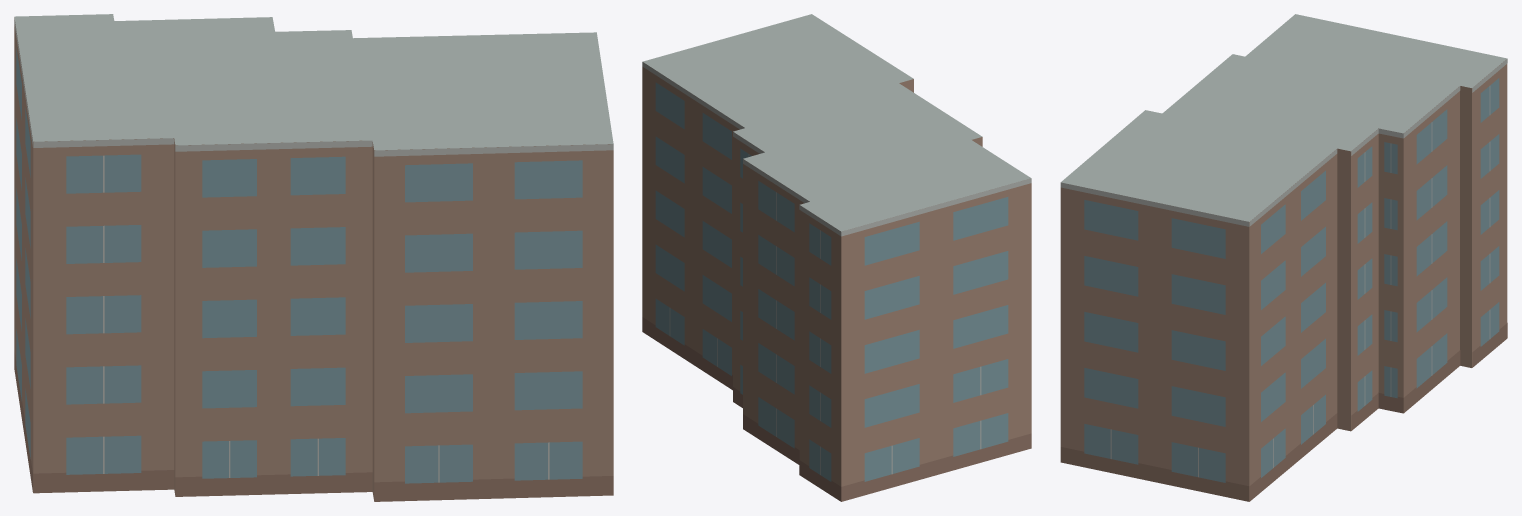
Rendered from survey-upis-32585065.glb.
3 renders of one model, left to right at view 1: azimuth 30°, elevation 25°; view 2: azimuth 150°, elevation 25°; view 3: azimuth 270°, elevation 25°, orthographic. The views are drawn at different scales.
Parts seen in each view (by area): view 1: survey-upis-32585065.tmp; view 2: survey-upis-32585065.tmp; view 3: survey-upis-32585065.tmp.
Boxes of the visible parts, x1,y1,x2,y2 form: survey-upis-32585065.tmp: [14, 14, 613, 501]; survey-upis-32585065.tmp: [642, 14, 1031, 501]; survey-upis-32585065.tmp: [1060, 14, 1507, 501].
Bounding box in the file's own units: 21.59 × 13.55 × 19.61.
